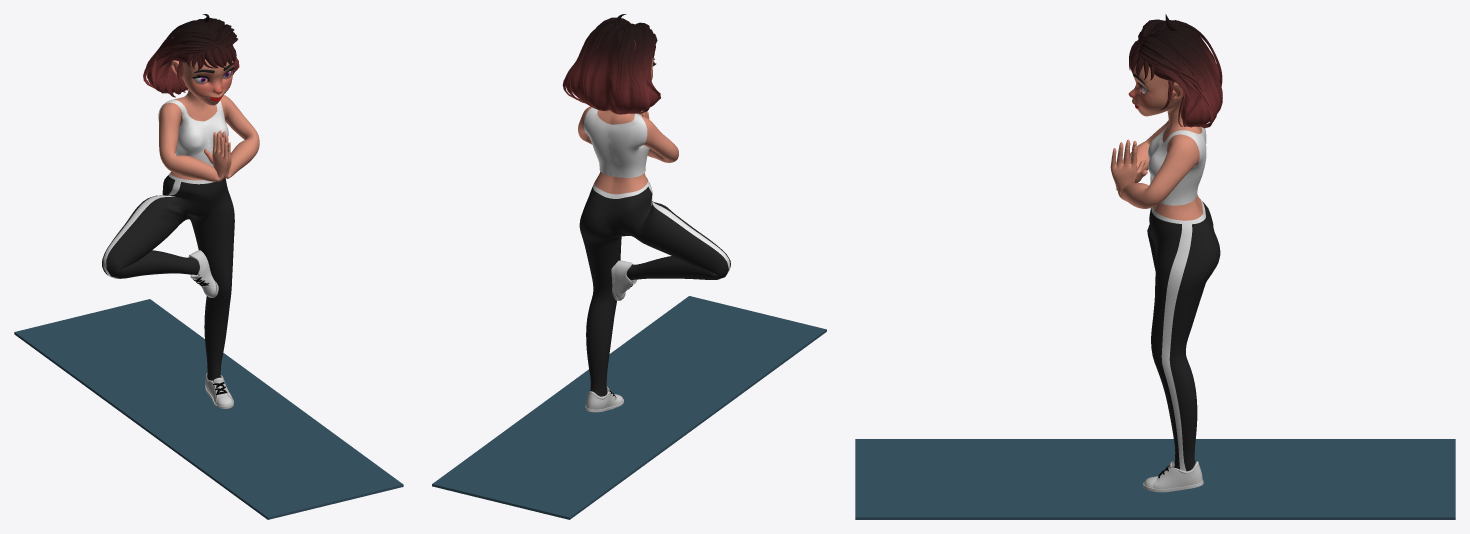
The model's file is vrikshasana.glb.
The picture shows the model from 3 angles, left to right: view 1: azimuth 30°, elevation 25°; view 2: azimuth 150°, elevation 25°; view 3: azimuth 270°, elevation 25°; orthographic projection. The views are drawn at different scales.
Parts seen in each view (by area): view 1: Cube, BOT, base, hair, TOP, shoes; view 2: Cube, BOT, hair, TOP, base, shoes; view 3: Cube, BOT, base, hair, TOP, shoes.
Boxes of the visible parts, bbox=[...] form: Cube: bbox=[14, 299, 403, 519]; BOT: bbox=[102, 172, 234, 380]; base: bbox=[158, 58, 259, 181]; hair: bbox=[143, 14, 239, 97]; TOP: bbox=[158, 99, 228, 166]; shoes: bbox=[188, 250, 233, 408]; Cube: bbox=[432, 296, 826, 519]; BOT: bbox=[579, 177, 730, 396]; hair: bbox=[562, 14, 660, 114]; TOP: bbox=[583, 107, 649, 177]; base: bbox=[578, 57, 678, 194]; shoes: bbox=[585, 260, 636, 412]; Cube: bbox=[855, 439, 1455, 519]; BOT: bbox=[1147, 198, 1220, 471]; base: bbox=[1110, 64, 1203, 220]; hair: bbox=[1129, 14, 1222, 128]; TOP: bbox=[1148, 125, 1206, 205]; shoes: bbox=[1143, 461, 1203, 492].
Size of the model in its own units: 6.17 by 13.65 by 15.97.
Materials: 11 (2 with a texture image).
